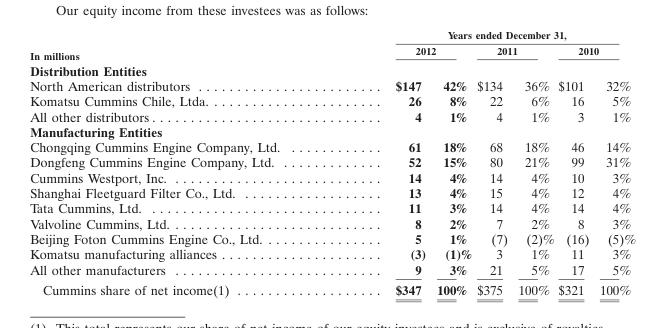table: (29, 28, 635, 297)
table column: (29, 28, 337, 297), (337, 28, 430, 297), (430, 28, 473, 297), (512, 28, 555, 297), (593, 28, 635, 297), (473, 28, 512, 297), (555, 28, 593, 297)
table column header: (29, 28, 635, 61)
table projected row header: (29, 61, 635, 77), (29, 123, 635, 138)
table row: (29, 42, 635, 61), (29, 261, 635, 279), (29, 279, 635, 297), (29, 61, 635, 77), (29, 92, 635, 108), (29, 138, 635, 154), (29, 184, 635, 200), (29, 230, 635, 246), (29, 77, 635, 92), (29, 108, 635, 123), (29, 123, 635, 138), (29, 154, 635, 169), (29, 169, 635, 184), (29, 200, 635, 215), (29, 215, 635, 230), (29, 246, 635, 261), (29, 28, 635, 42)
table spanning cell: (29, 28, 337, 61), (337, 28, 635, 42), (337, 42, 473, 61), (473, 42, 555, 61), (555, 42, 635, 61)
